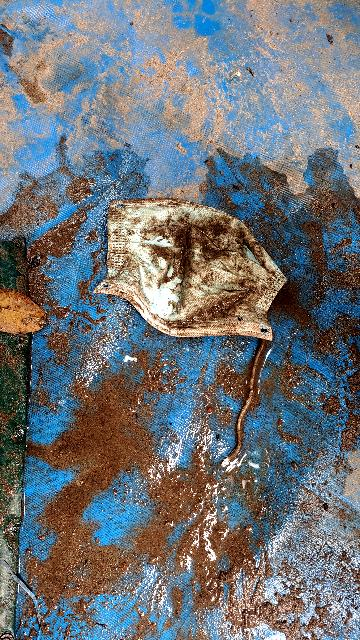mask: (75, 161, 347, 394)
